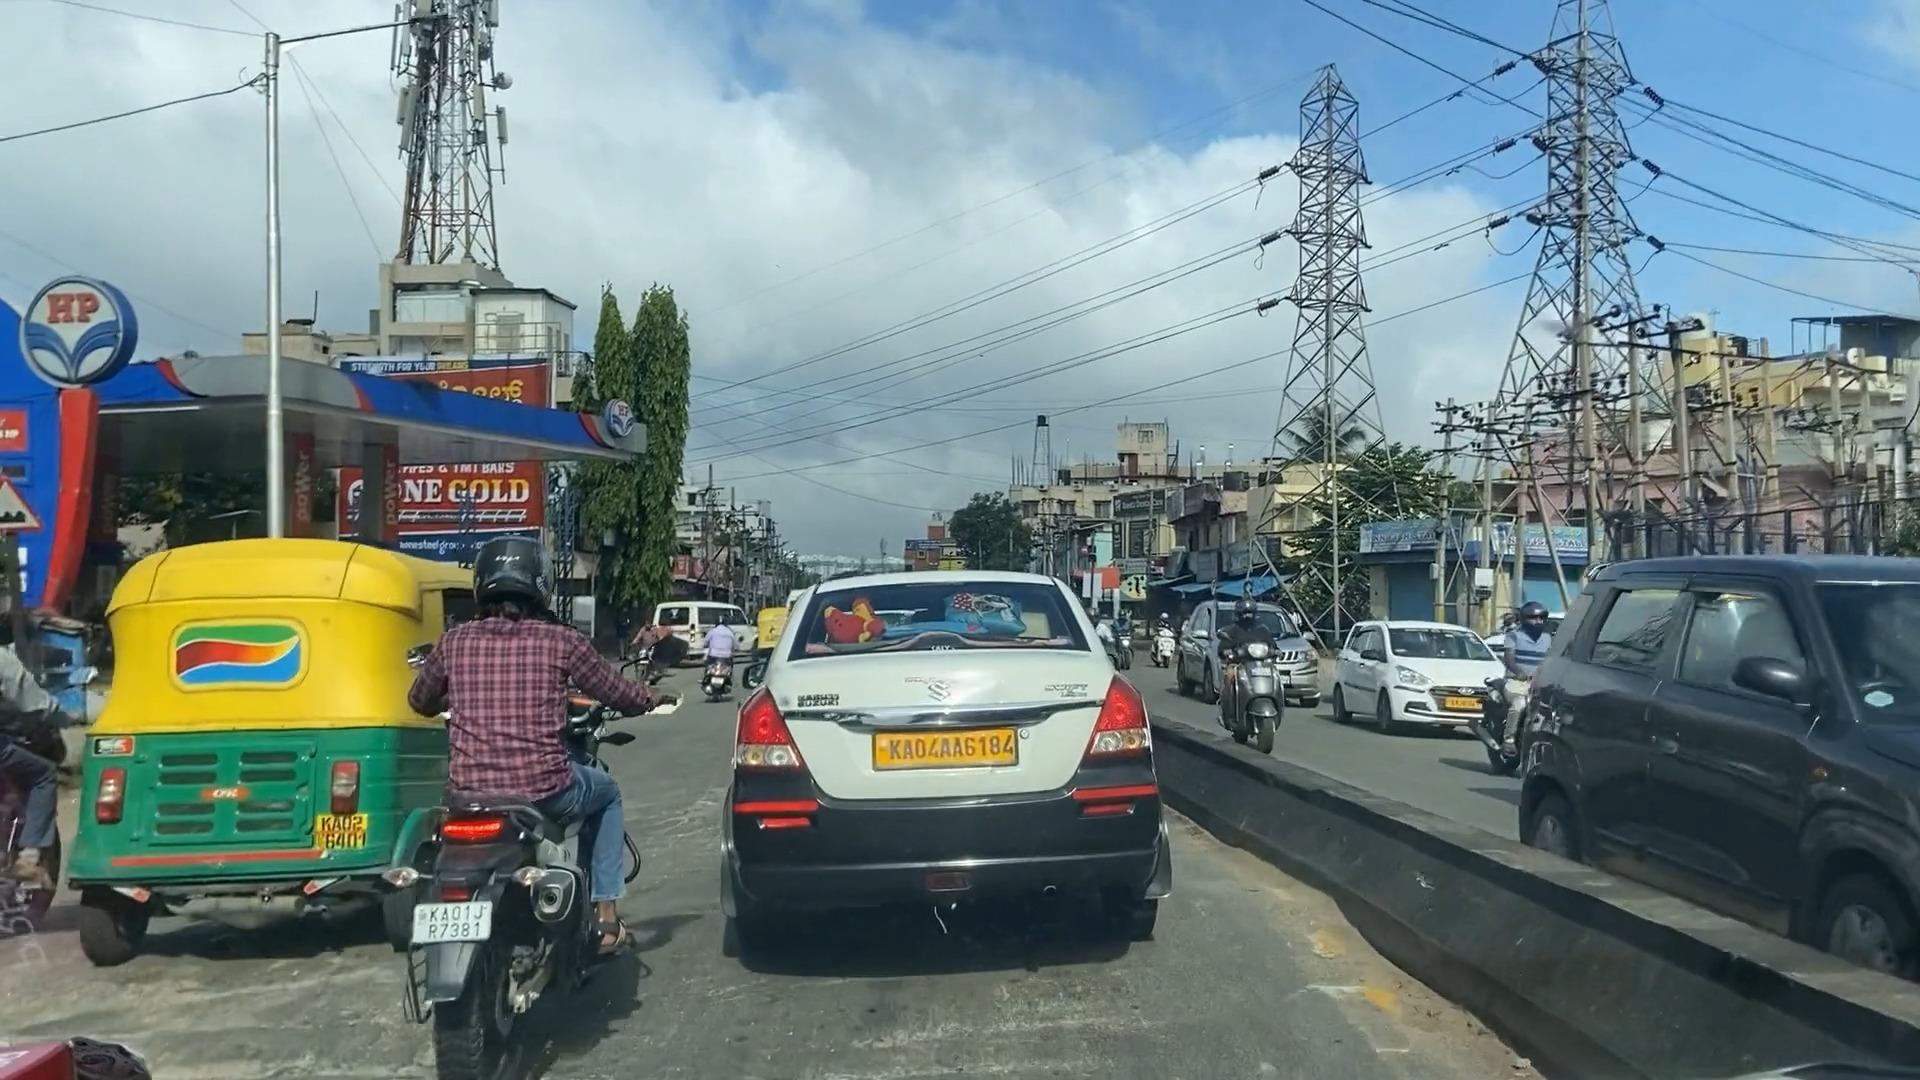LMV: (715, 551, 1179, 945), (421, 538, 622, 1075)
RoadDamages: (71, 971, 361, 1080), (844, 994, 1179, 1080)
